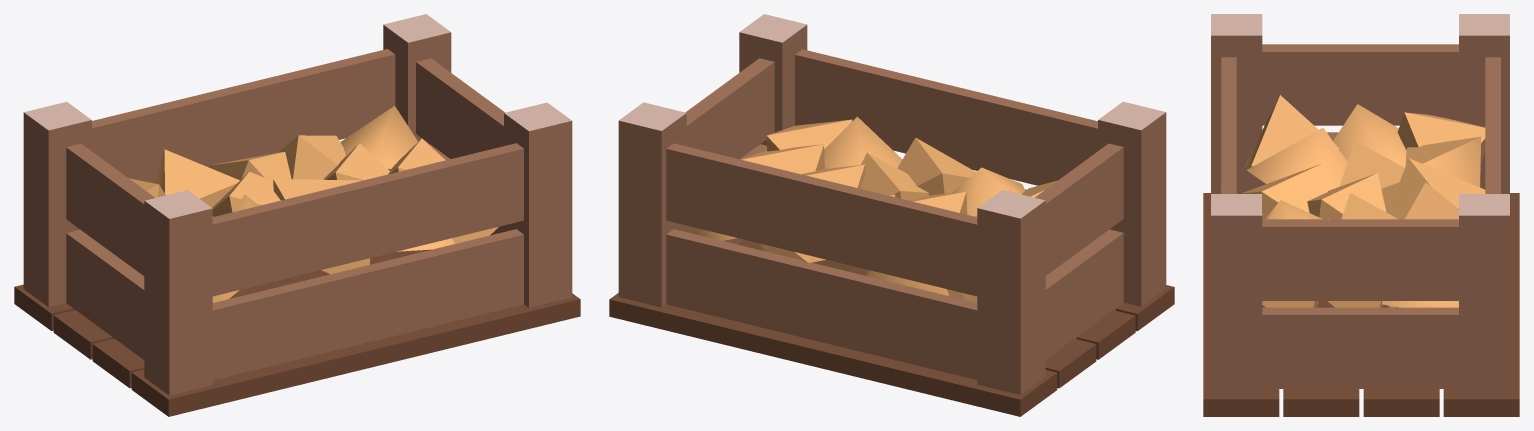
Rendered from caixa_frutas_pacote.glb.
3 views of the same model, side by side, from view 1: azimuth 30°, elevation 25°; view 2: azimuth 150°, elevation 25°; view 3: azimuth 270°, elevation 25° (orthographic). The views are drawn at different scales.
Parts seen in each view (by area): view 1: caixa_frutas_pacote; view 2: caixa_frutas_pacote; view 3: caixa_frutas_pacote.
Part boxes in pixels (x1,y1,x2,y2): caixa_frutas_pacote: [14, 14, 580, 416]; caixa_frutas_pacote: [609, 14, 1174, 416]; caixa_frutas_pacote: [1203, 14, 1519, 416].
Bounding box in the file's own units: 0.7132 × 0.3212 × 0.4628.
1 material, 1 textured.
